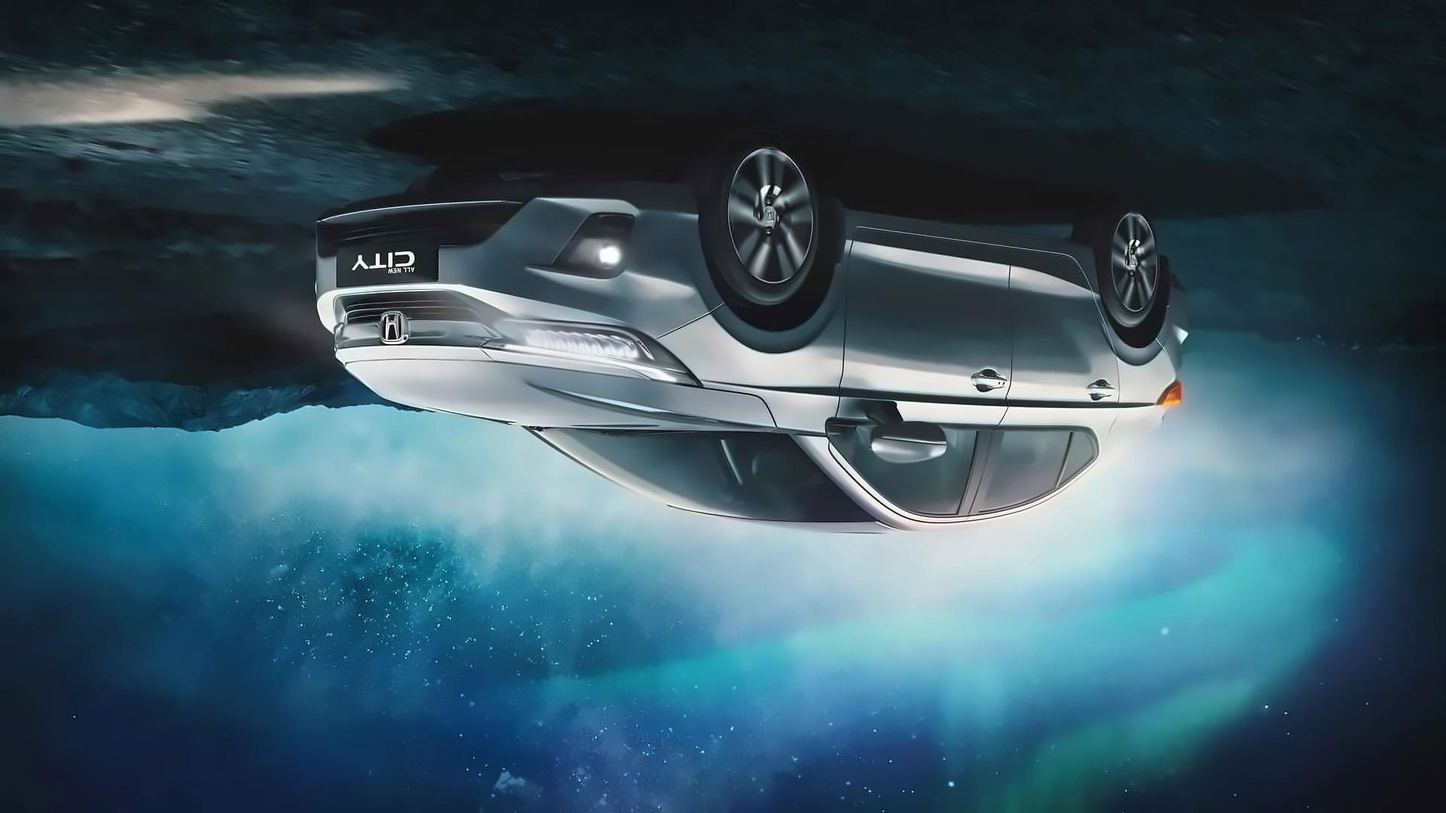Car hood: (339, 353, 781, 438)
Driver-s door - -F-R-: (824, 191, 1021, 557)
Fender - -F-R-: (639, 195, 860, 437)
Fender - -R-R-: (1090, 292, 1183, 493)
Front bumper: (306, 178, 707, 265)
Headlight - -R-: (483, 314, 704, 389)
Passenger-s door - -R-R-: (960, 198, 1129, 546)
Rear light - -R-: (1151, 373, 1185, 414)
Side bumper - -R-: (830, 180, 1099, 299)
Side mirror - -R-: (814, 403, 945, 469)
